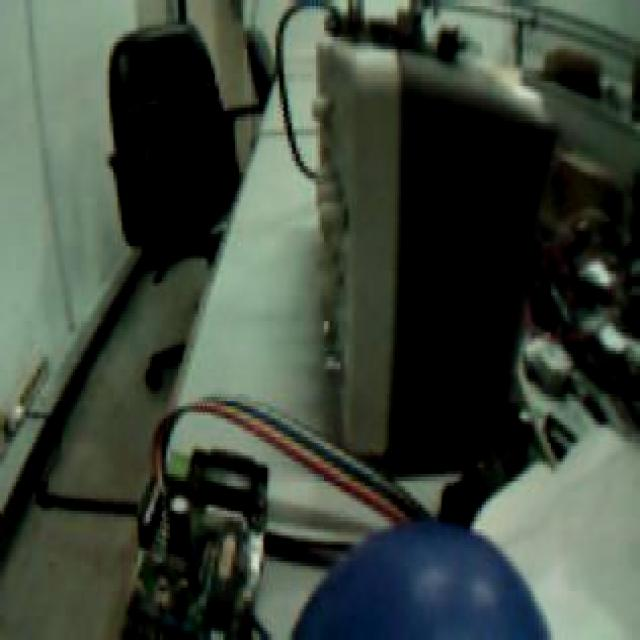BallPurple: (292, 517, 549, 640)
